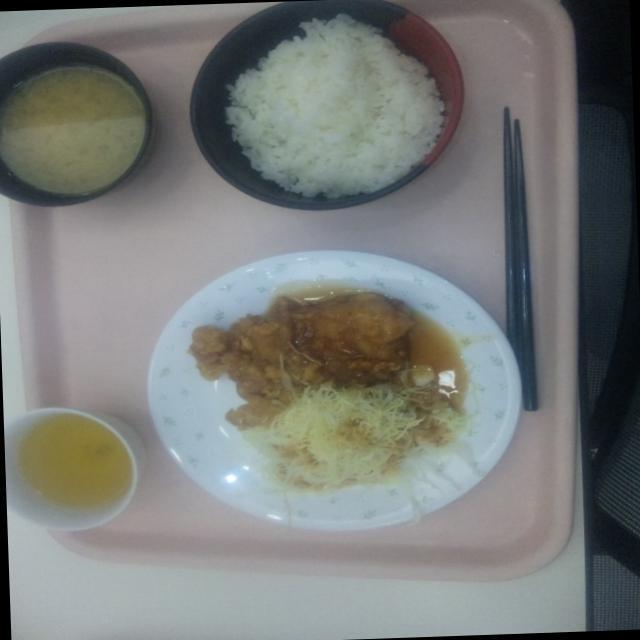Rice: (220, 0, 443, 204)
